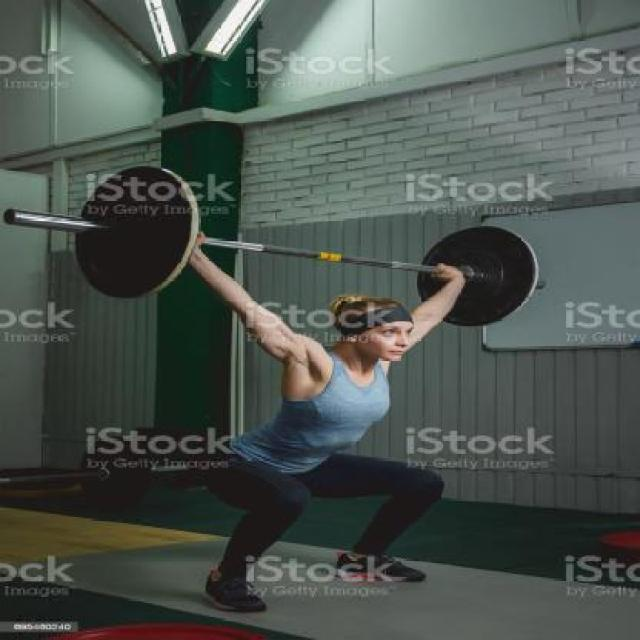barbell: (59, 163, 206, 302)
